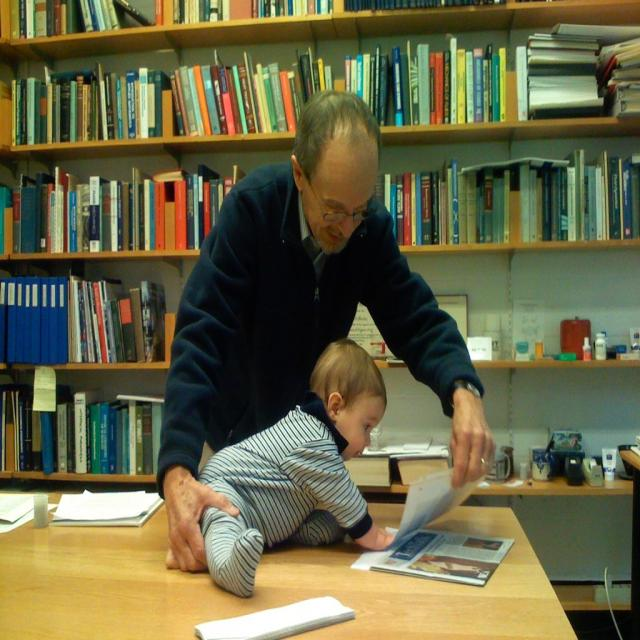Person: (155, 90, 496, 574), (194, 336, 394, 594)
